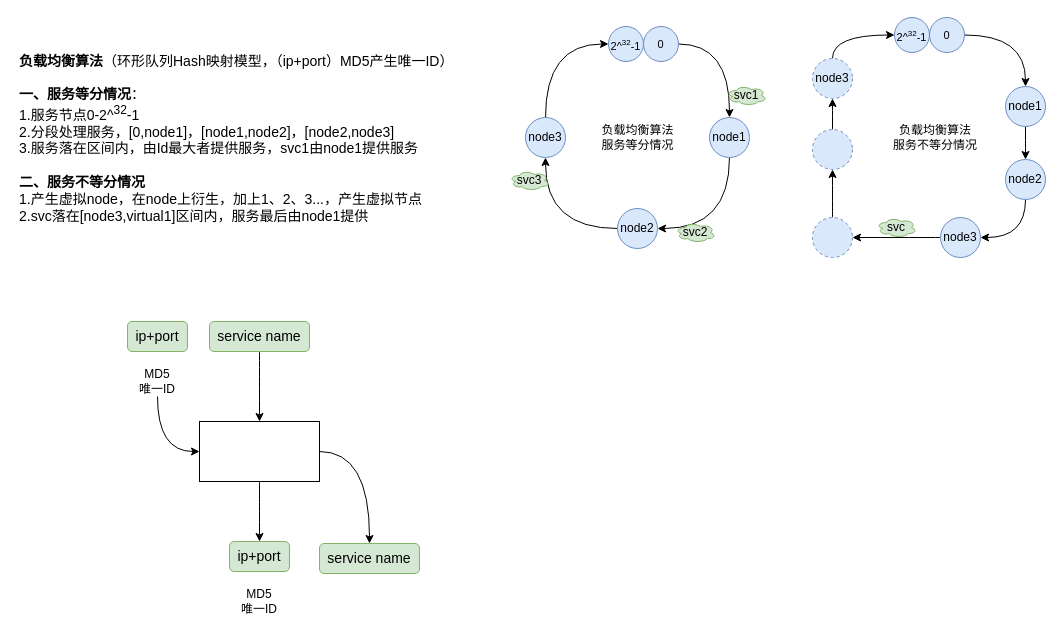
Image size: 1063x634. Some labels were removed from this diagram. Here are the shapes that lost their labels. From the top down, the centre of each, then its label:
At pixel 832 149: "virtual 2".
At pixel 832 237: "virtual 1".
At pixel 259 451: "ConcurrentHashMap".
